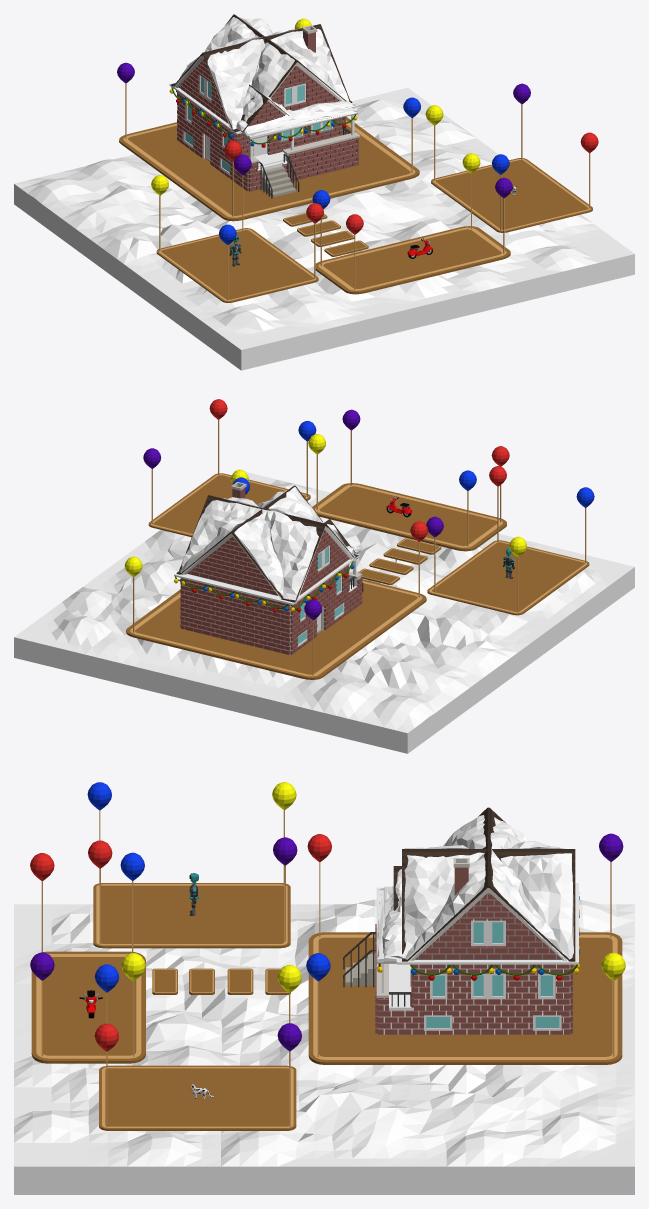
3 renders of one model, top to bottom at view 1: azimuth 30°, elevation 25°; view 2: azimuth 150°, elevation 25°; view 3: azimuth 270°, elevation 25°, orthographic. The views are drawn at different scales.
Parts seen in each view (by area): view 1: Cube.013, Cube.1419; view 2: Cube.013, Cube.1419; view 3: Cube.013, Cube.1419.
Part boxes in pixels (<box>): Cube.013: <box>14,18,634,370</box>; Cube.1419: <box>169,14,360,198</box>; Cube.013: <box>14,399,634,753</box>; Cube.1419: <box>174,482,363,654</box>; Cube.013: <box>14,782,634,1194</box>; Cube.1419: <box>343,807,579,1034</box>.
Bounding box in the file's own units: 4000 × 1789 × 4000.
41 materials, 1 textured.
